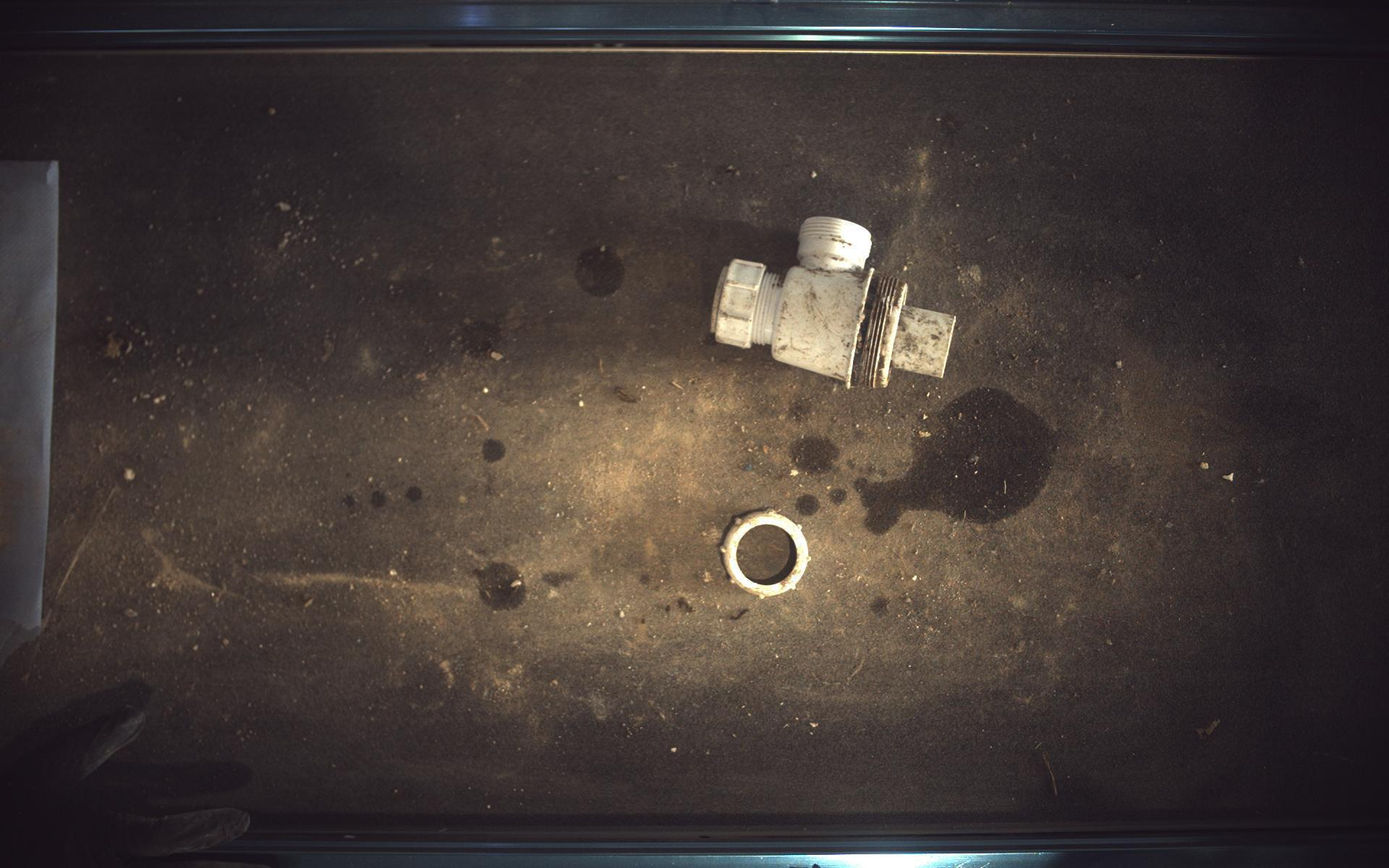plastic: (712, 216, 958, 388), (721, 509, 810, 598)
